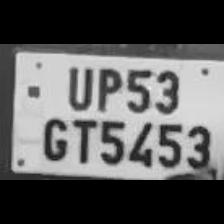3: (182, 119, 212, 169), (151, 65, 181, 112)
4: (126, 116, 152, 166)
5: (95, 114, 125, 166), (120, 64, 152, 112), (152, 117, 182, 167)
G: (38, 114, 70, 162)
P: (91, 62, 121, 112)
T: (68, 114, 96, 164)
U: (62, 61, 94, 109)
